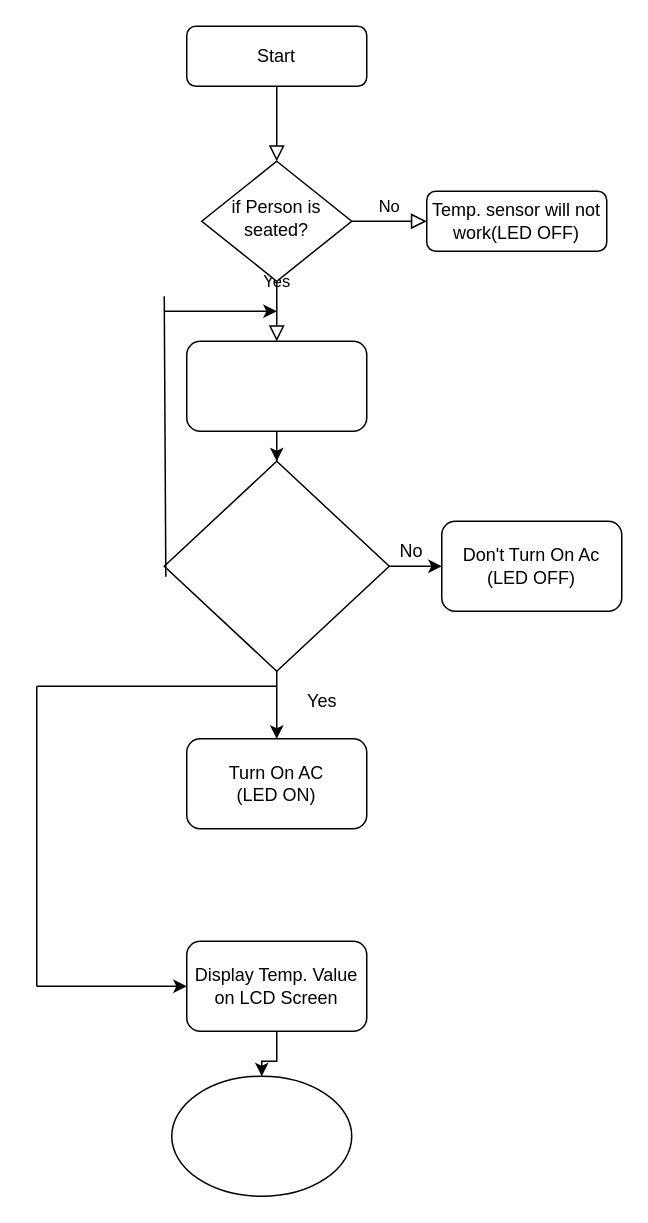
Some shapes in this 648 by 1223 pixel diagram are drawn without their labels. Here are the shapes that lost their labels. From the top down, the centre of each, then its label:
At pixel 276 385: "Temp.Sensor will start working (LED TURN ON)".
At pixel 276 565: "If Potentiometer value is beyond threshold?".
At pixel 261 1135: "END".
